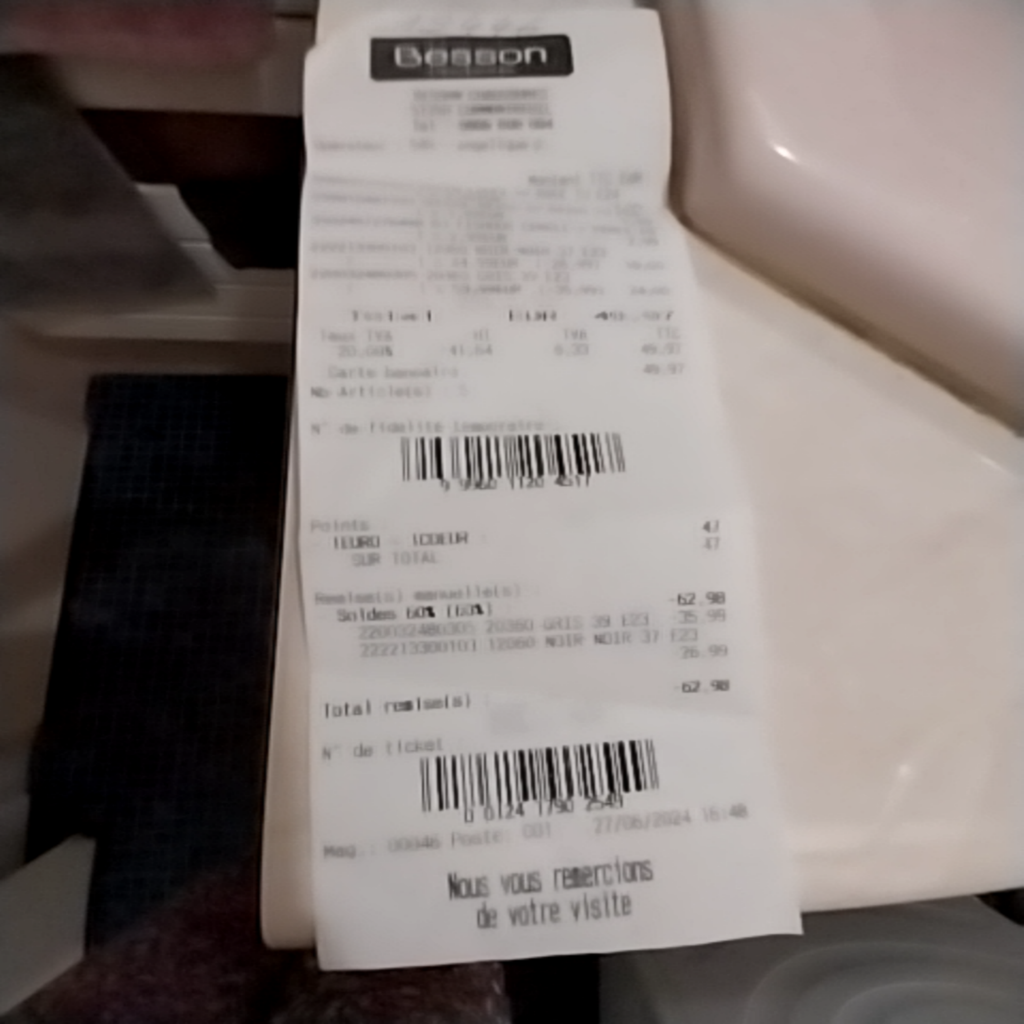recipt: (296, 4, 804, 969)
